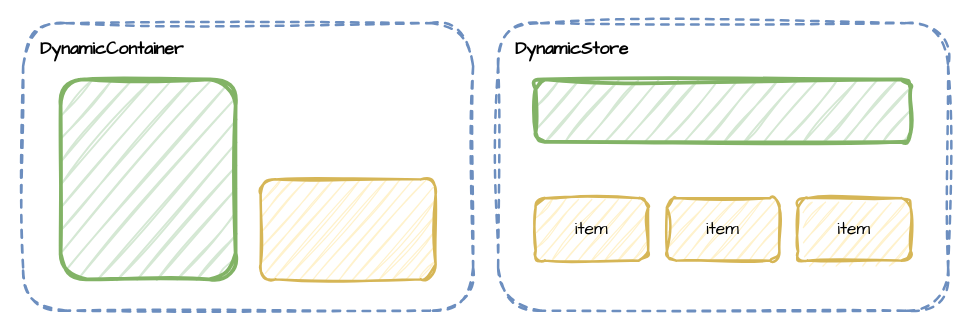
Some shapes in this 970 by 333 pixel diagram are drawn without their labels. Each missing label, with the box of its shape:
capacity follows the registry: (58, 77, 237, 281)
capacity, in items follows the registry: (533, 77, 912, 143)
level changes by put and get: (259, 178, 436, 280)
